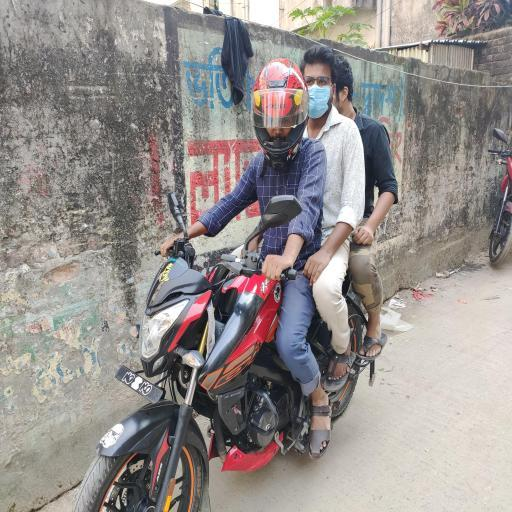helmet: (246, 46, 306, 165)
triple riding: (44, 37, 434, 512)
